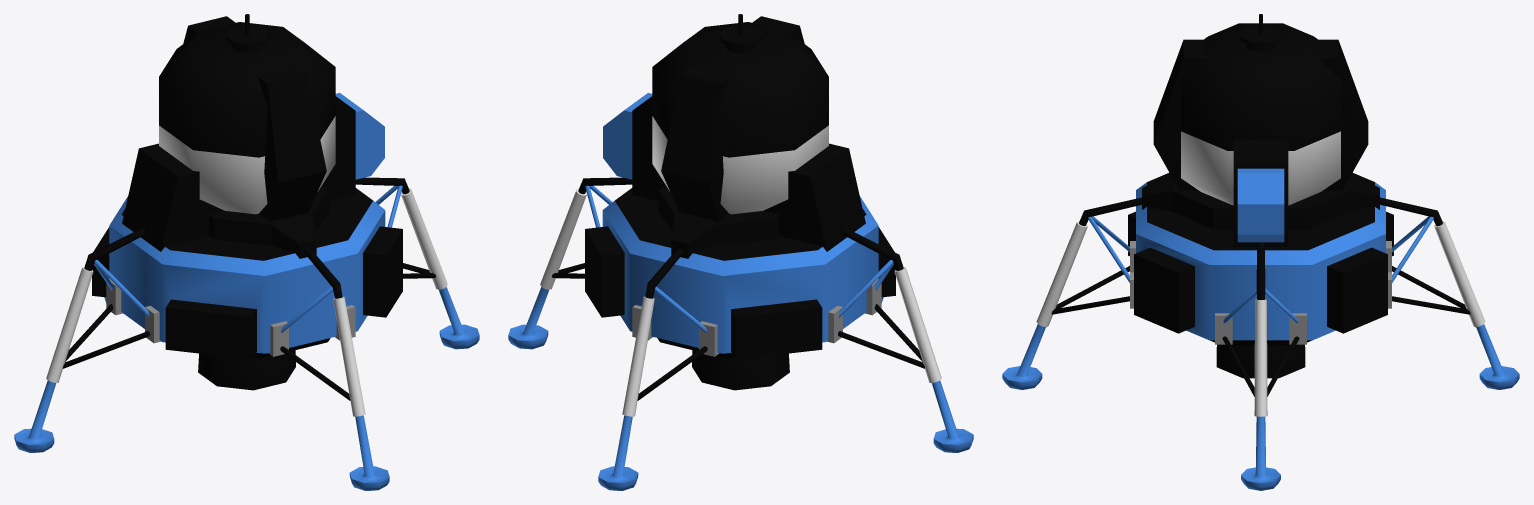
File: LunarLander.fbx
The picture shows the model from 3 angles, left to right: view 1: azimuth 30°, elevation 25°; view 2: azimuth 150°, elevation 25°; view 3: azimuth 270°, elevation 25°; orthographic projection. The views are drawn at different scales.
Parts seen in each view (by area): view 1: Lander; view 2: Lander; view 3: Lander.
Boxes of the visible parts, box(x1,y1,x2,y2) form: Lander: box(14, 14, 479, 490); Lander: box(508, 14, 973, 490); Lander: box(1002, 14, 1519, 490).
Size of the model in its own units: 1899 by 1899 by 1508.
